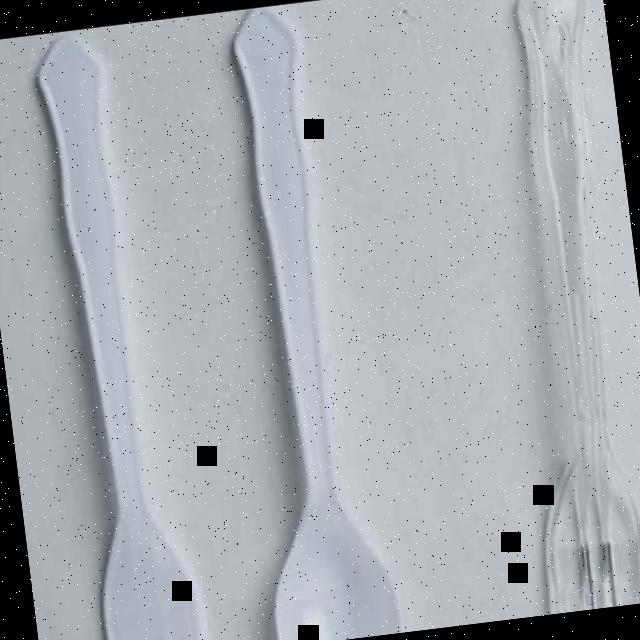plastic_spoon: (30, 0, 397, 640)
